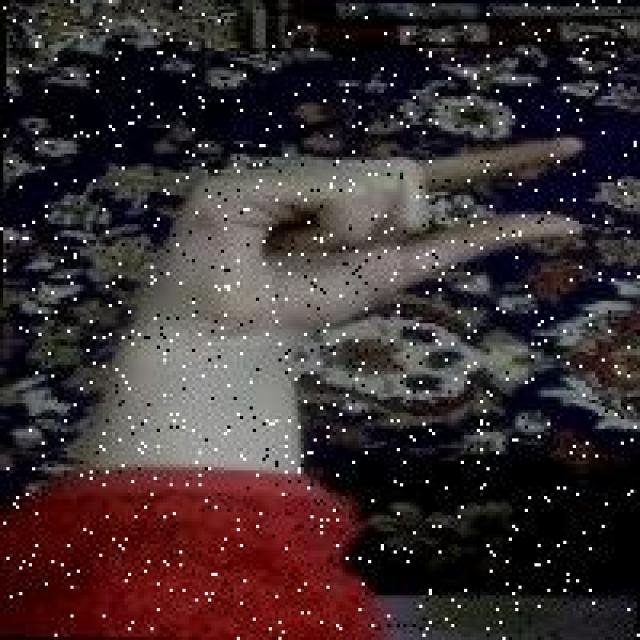G: (147, 124, 589, 350)
